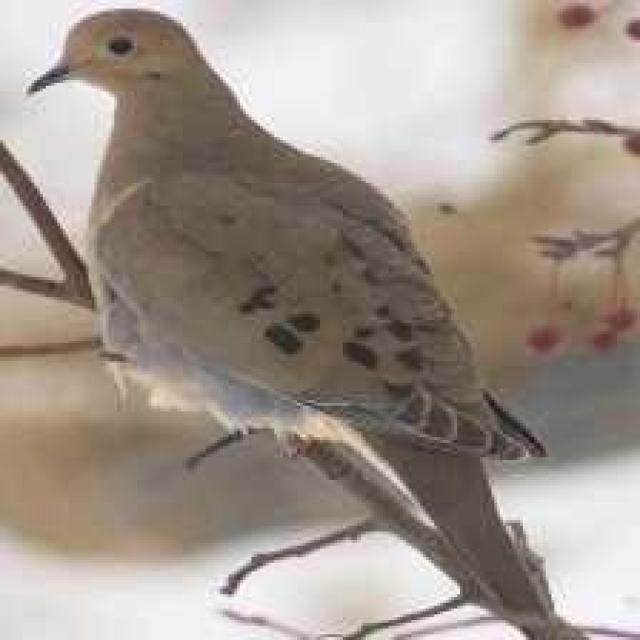dove: (25, 5, 591, 640)
